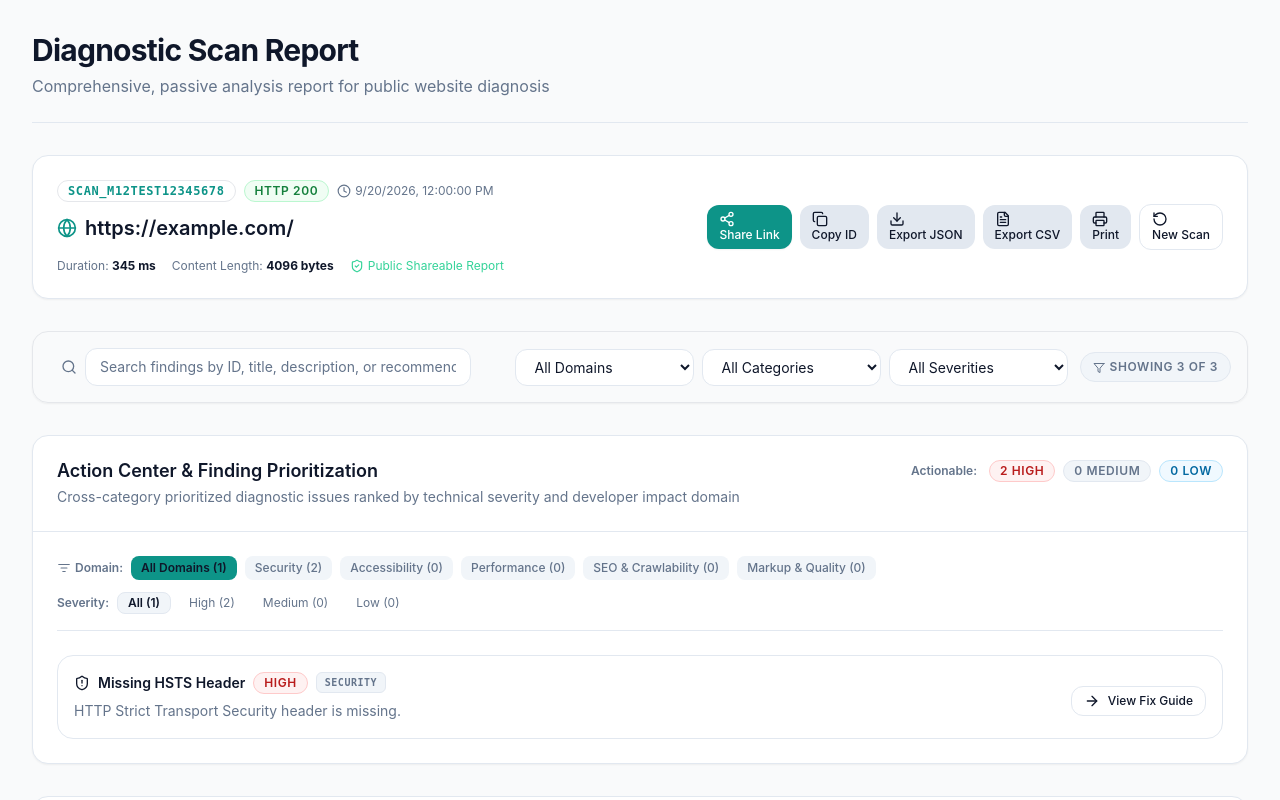
Test: Milestone 12 — Comprehensive UX Consistency, Error States & Product Quality Suite › 3. Detailed Search & Filter Semantics Suite › strictly excludes finding.value from text search matching
Expected: the text "scan_m12test12345678" is shown, x1=68 y1=183 x2=224 y2=199
// "none" is in finding.value for sec-hsts and sec-csp
Replace the text in the field with placeholder "Search findings" with "none": (278, 367) x1=85 y1=348 x2=472 y2=386
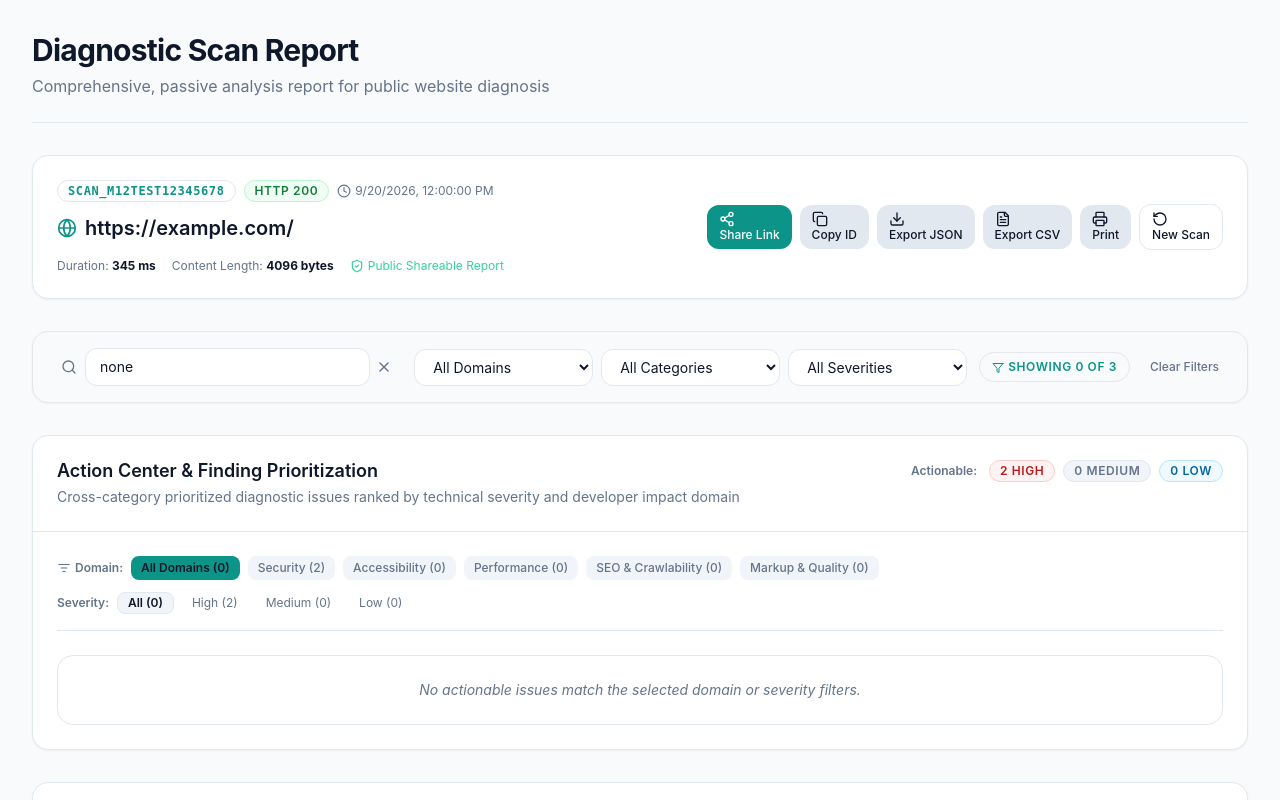
Expected: the heading "Missing HSTS Header" is gone
Expected: the text "Showing 0 of 3" is shown, x1=992 y1=359 x2=1117 y2=375
